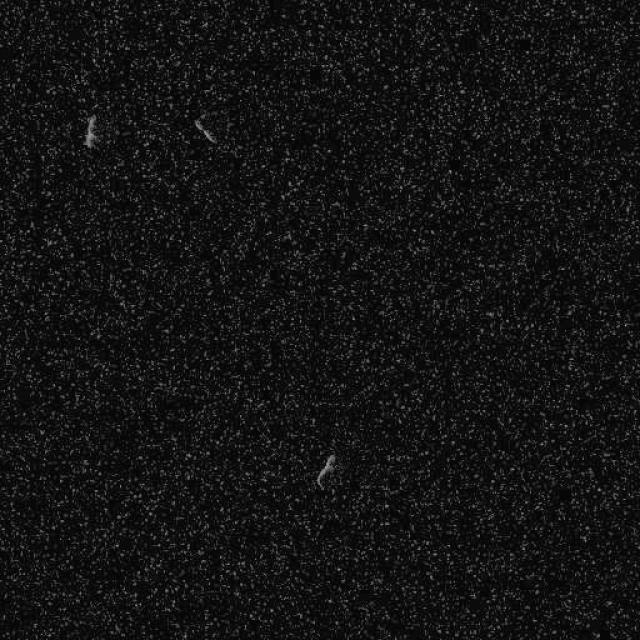D2: (315, 452, 337, 490), (192, 116, 218, 145), (82, 112, 98, 148)
